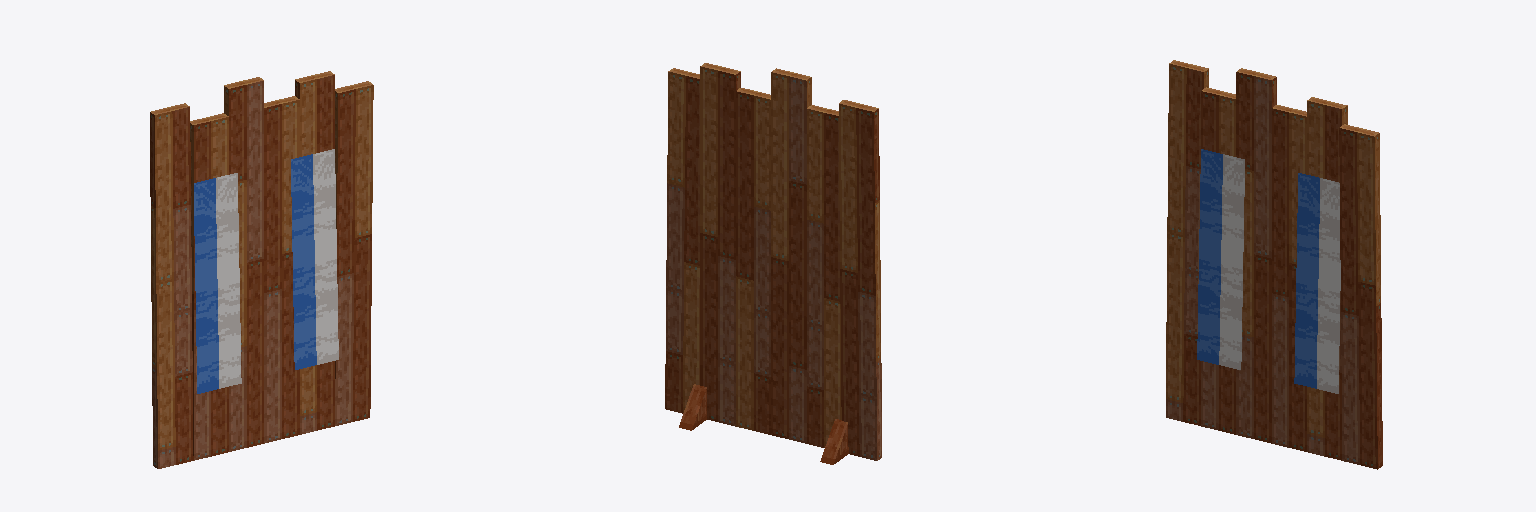
3 renders of one model, left to right at view 1: azimuth 30°, elevation 25°; view 2: azimuth 150°, elevation 25°; view 3: azimuth 330°, elevation 25°, orthographic.
Visible parts, largest first — view 1: cuboid, plane; view 2: cuboid; view 3: cuboid, plane.
Boxes of the visible parts, x1,y1,x2,y2 form: cuboid: [150, 71, 373, 468]; plane: [194, 149, 338, 393]; cuboid: [665, 63, 881, 464]; cuboid: [1166, 60, 1382, 469]; plane: [1197, 149, 1340, 393].
Size of the model in its own units: 6 by 9.81 by 1.19.
Materials: 1 (1 with a texture image).